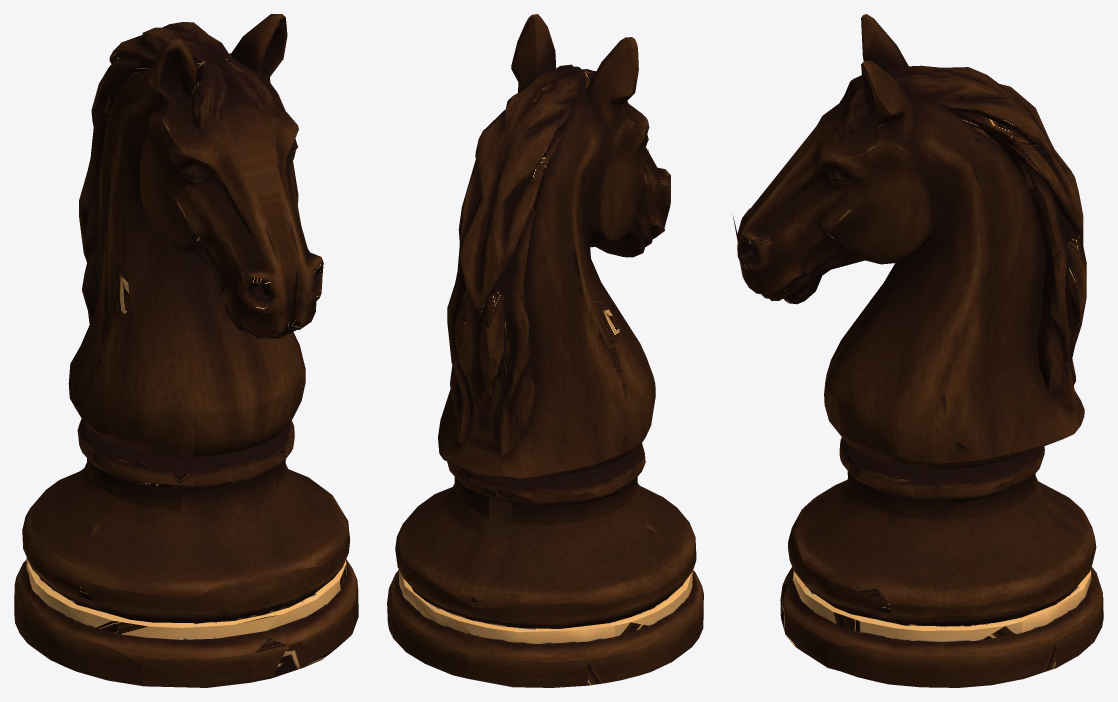
File: 08_knight_dark.glb
The picture shows the model from 3 angles, left to right: view 1: azimuth 30°, elevation 25°; view 2: azimuth 150°, elevation 25°; view 3: azimuth 270°, elevation 25°; orthographic projection. The views are drawn at different scales.
Parts seen in each view (by area): view 1: world; view 2: world; view 3: world.
Part boxes in pixels (x1,y1,x2,y2): world: [14, 14, 358, 687]; world: [387, 14, 703, 687]; world: [732, 14, 1103, 687].
Bounding box in the file's own units: 0.5062 × 1 × 0.5798.
Materials: 1 (1 with a texture image).
